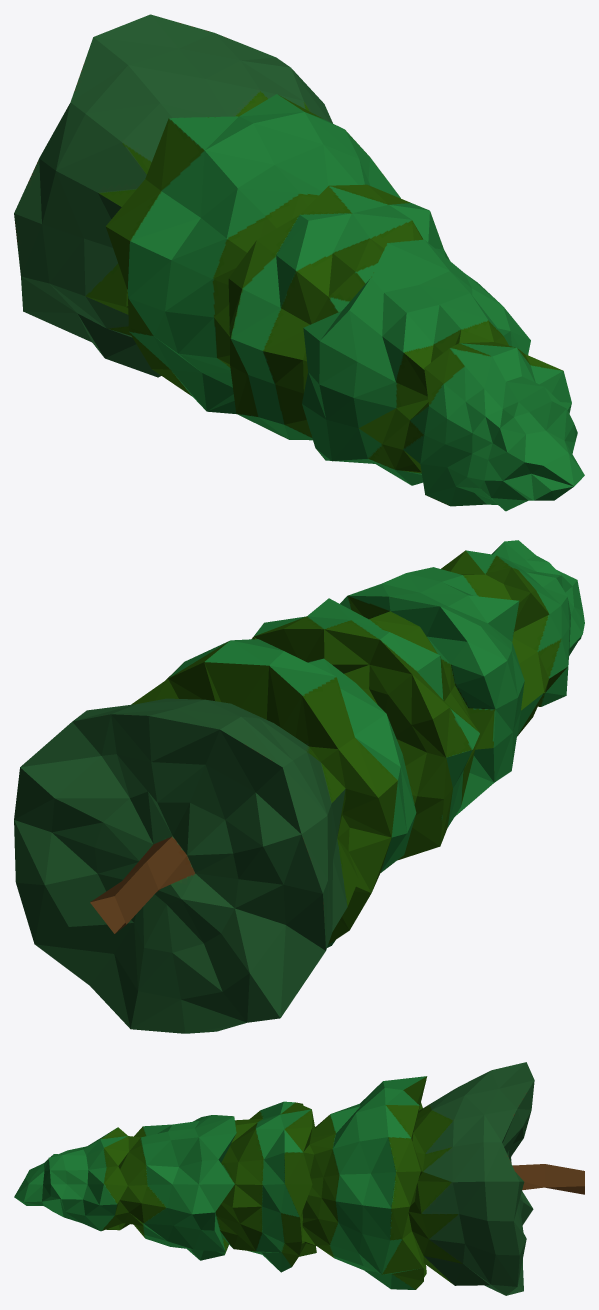
The picture shows the model from 3 angles, top to bottom: view 1: azimuth 30°, elevation 25°; view 2: azimuth 150°, elevation 25°; view 3: azimuth 270°, elevation 25°; orthographic projection. The views are drawn at different scales.
Parts seen in each view (by area): view 1: _1_tree__1_tree_0; view 2: _1_tree__1_tree_0; view 3: _1_tree__1_tree_0.
Boxes of the visible parts, <box> form: _1_tree__1_tree_0: <box>14,14,584,511</box>; _1_tree__1_tree_0: <box>14,540,584,1033</box>; _1_tree__1_tree_0: <box>14,1062,584,1295</box>.
Size of the model in its own units: 1.94 by 2.02 by 4.99.
1 material, 1 textured.
